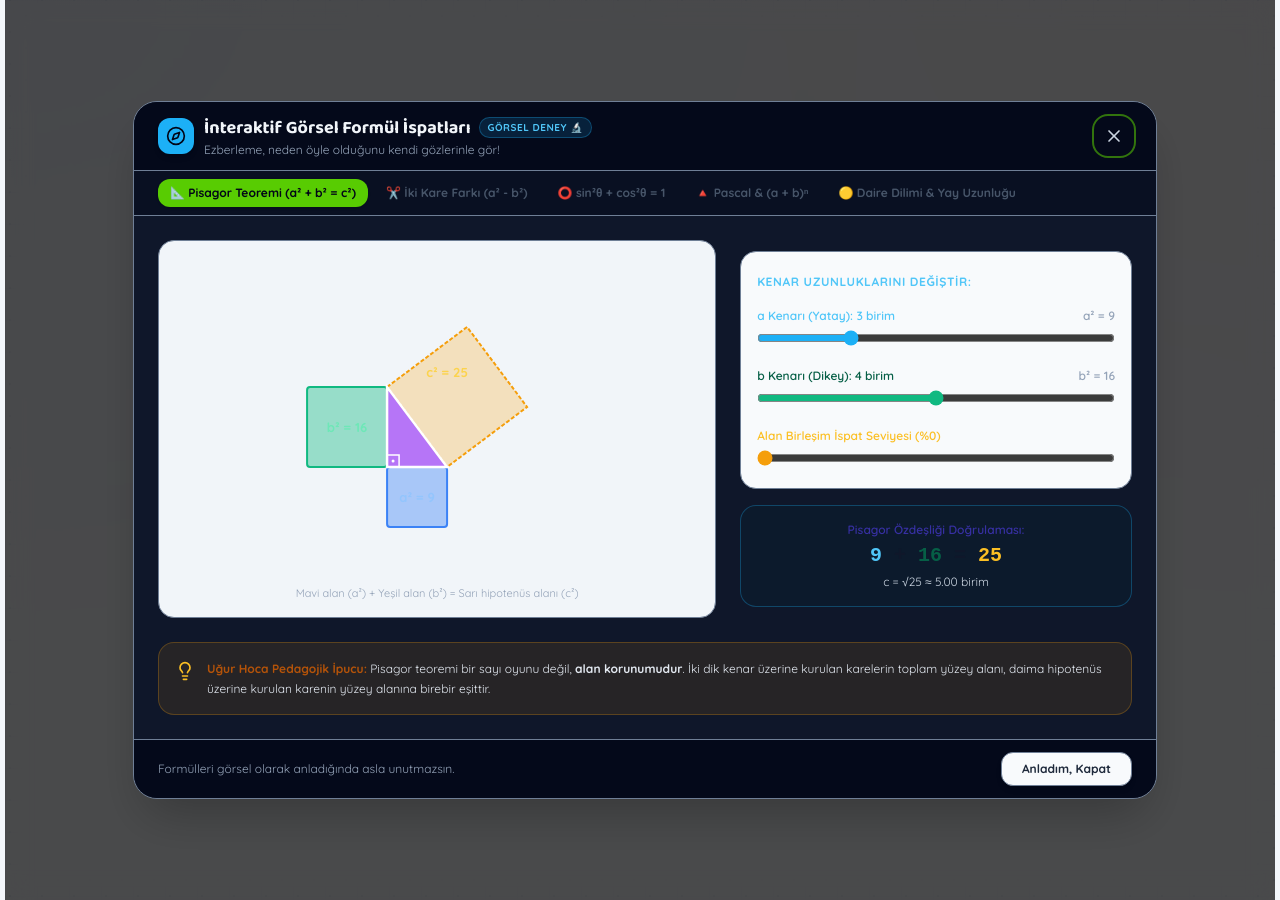
Test: VisualMathProofsModal (re-export) › ispat sekmeleri arasında gezinir
Step 1. Click the button "✂️ İki Kare Farkı (a² - b²)" → x=457, y=193, box top-left (374, 179), bottom-right (540, 207)
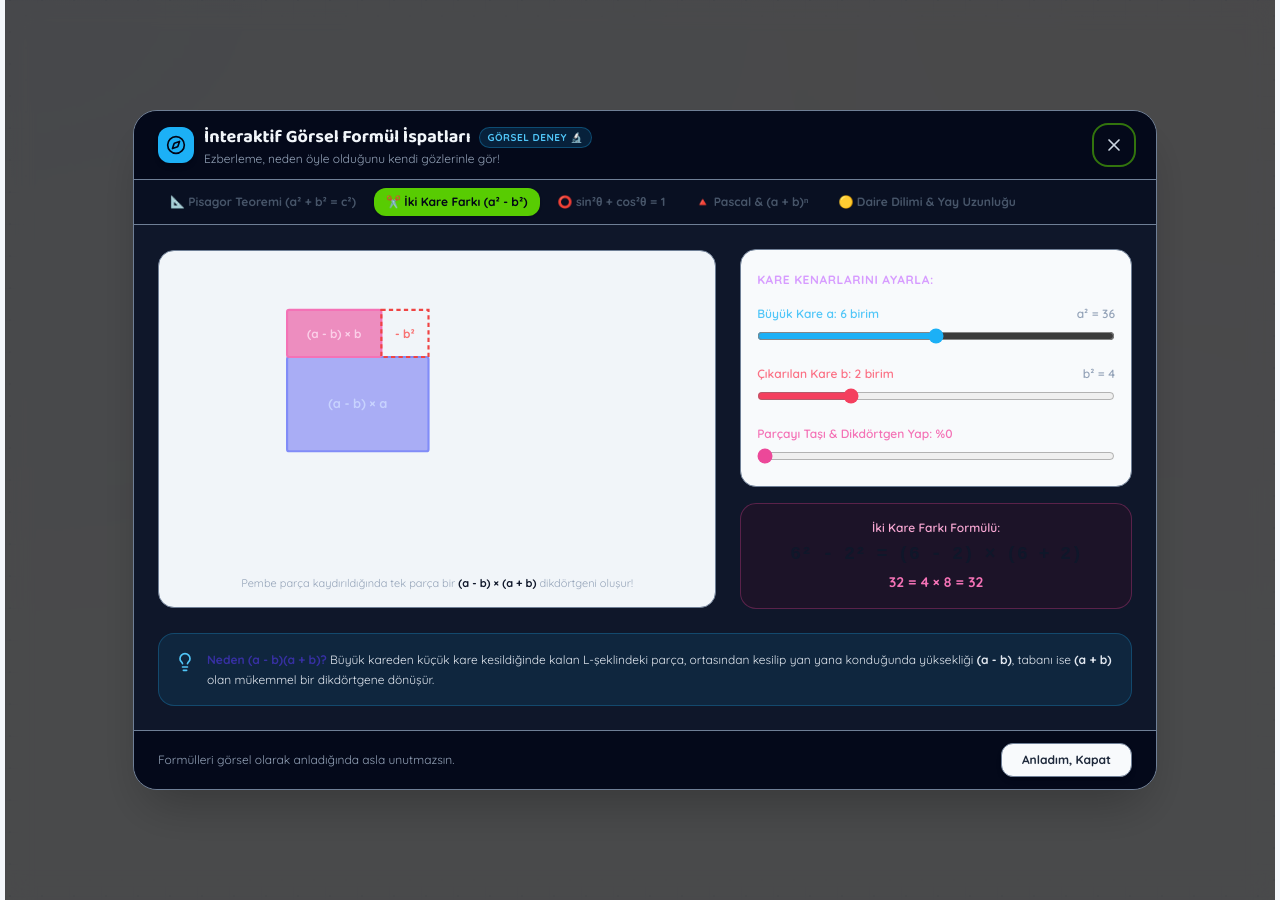
Check: the text "İki Kare Farkı Formülü:" is shown, box top-left (872, 520), bottom-right (1000, 535)
